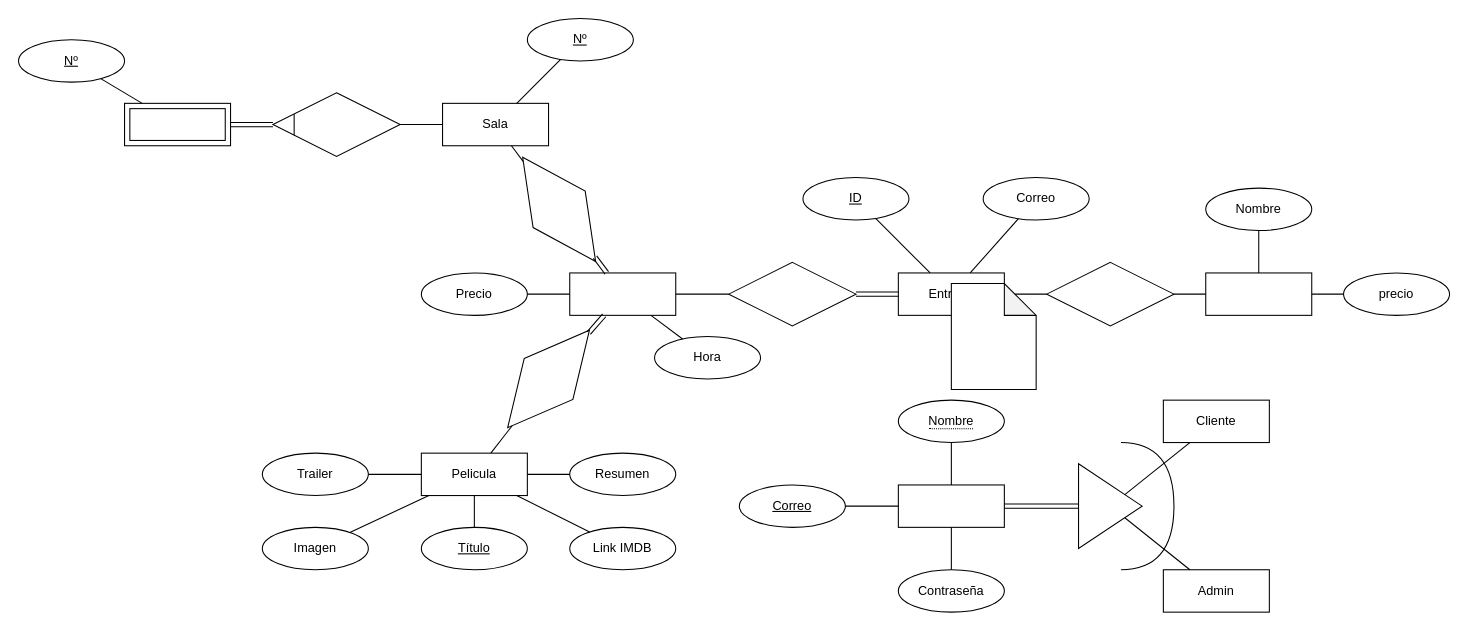
Some shapes in this 1468 by 631 pixel diagram are drawn without their labels. The box of each missing label's shape, as (x1, y1, x2, y2) in pixels:
Butaca: (123, 102, 231, 146)
Incluye N:M: (1046, 261, 1174, 326)
Ocurre en 1:N: (495, 138, 622, 280)
Pertenece a N:1: (272, 92, 400, 156)
Producto: (1205, 272, 1312, 315)
Se asocia a 1:N: (728, 261, 856, 326)
Se proyecta en 1:N: (482, 308, 614, 448)
Sesion: (569, 272, 676, 315)
Usuario: (897, 484, 1004, 527)
